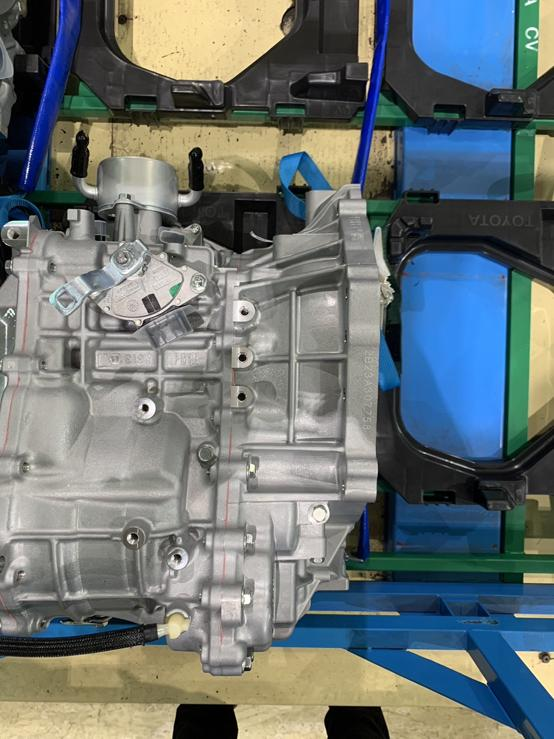gearbox_type1: (0, 155, 395, 673)
gearbox_type1_FP1: (227, 296, 259, 328)
gearbox_type1_FP2: (225, 345, 257, 372)
gearbox_type1_FP3: (3, 217, 32, 251)
